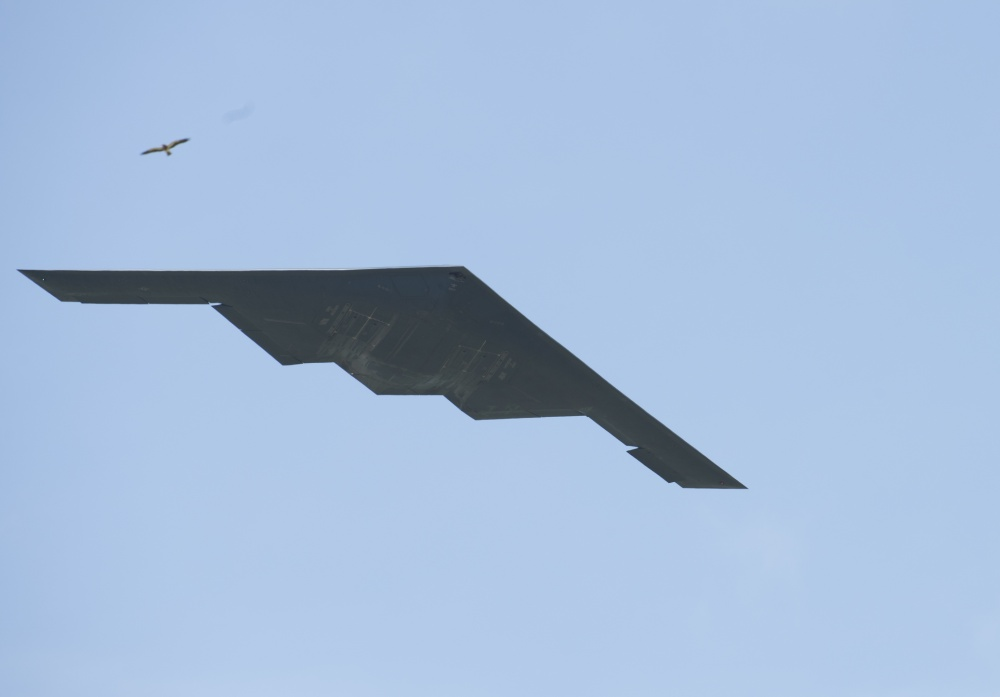B2: (16, 263, 749, 489)
